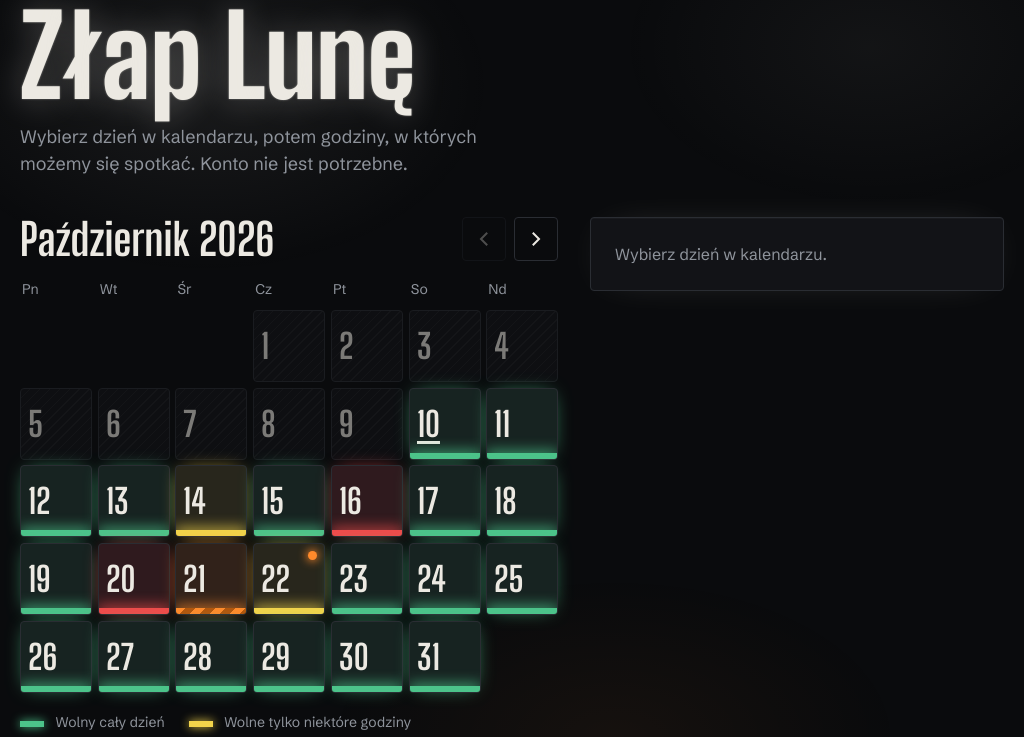
strona publiczna › cały dzień przez checkbox
Click the button "17": (444, 501) [409,465,480,537]
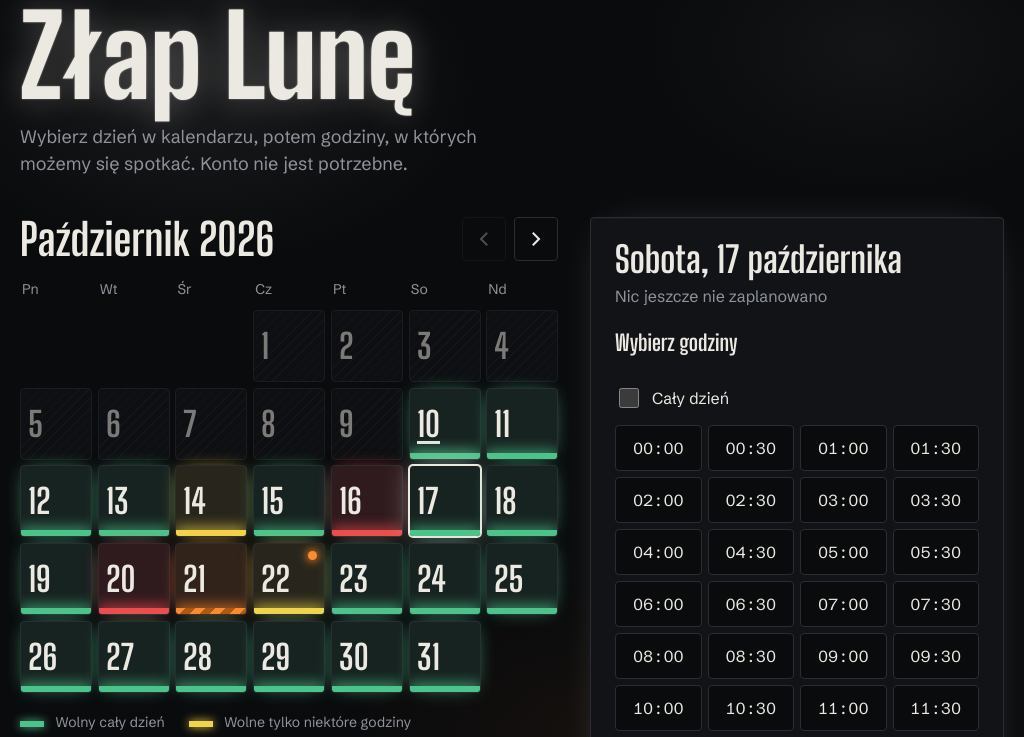
Click the checkbox labelled "Cały dzień": (629, 398) [619,388,639,408]
(page scrolled)
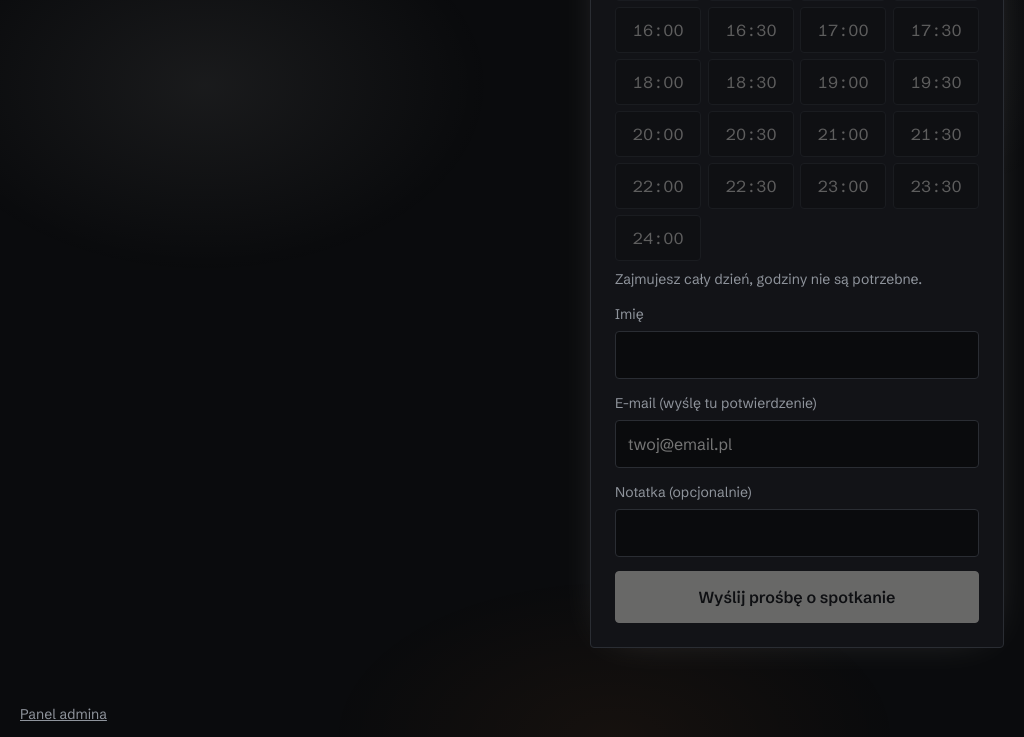
In the field labelled "Imię": (797, 355) [615,331,979,379], type "Bartek"
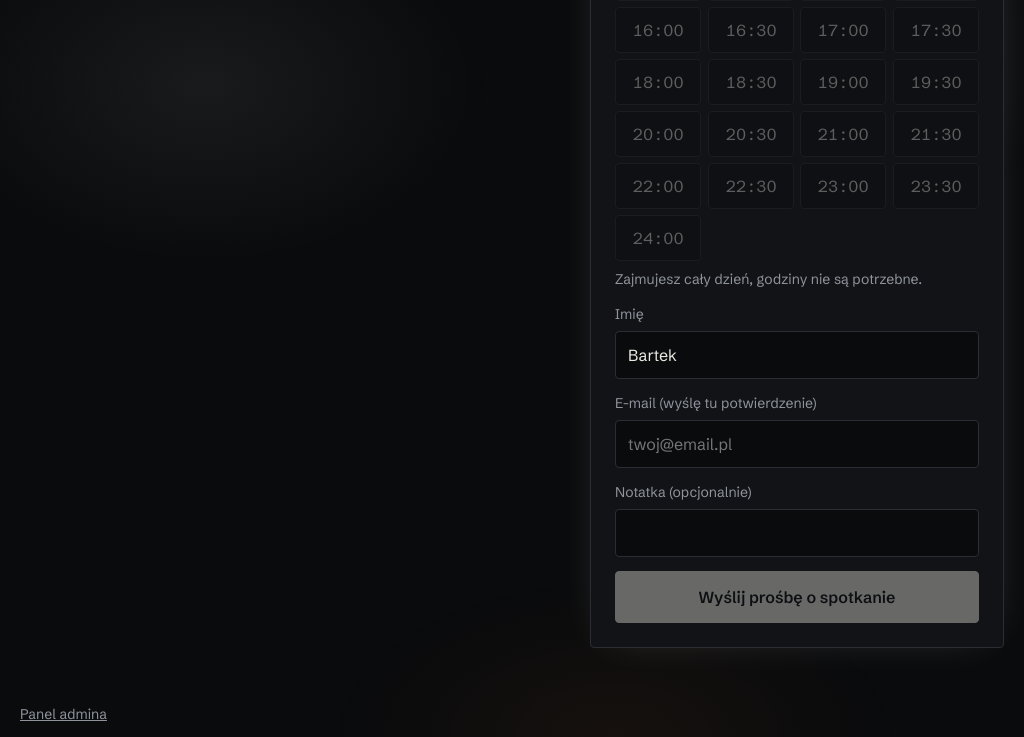
In the field labelled "E-mail (wyślę tu potwierdzenie)": (797, 444) [615,420,979,468], type "b@x.pl"
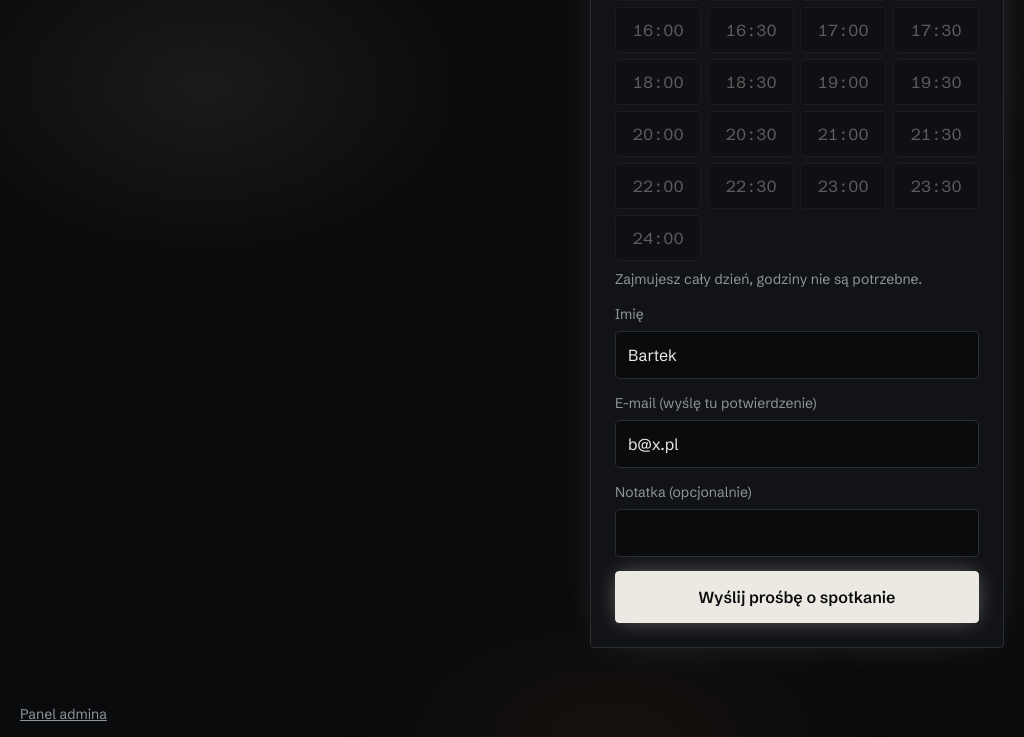
Click the button "Wyślij prośbę o spotkanie": (797, 597) [615,571,979,623]
(page scrolled)
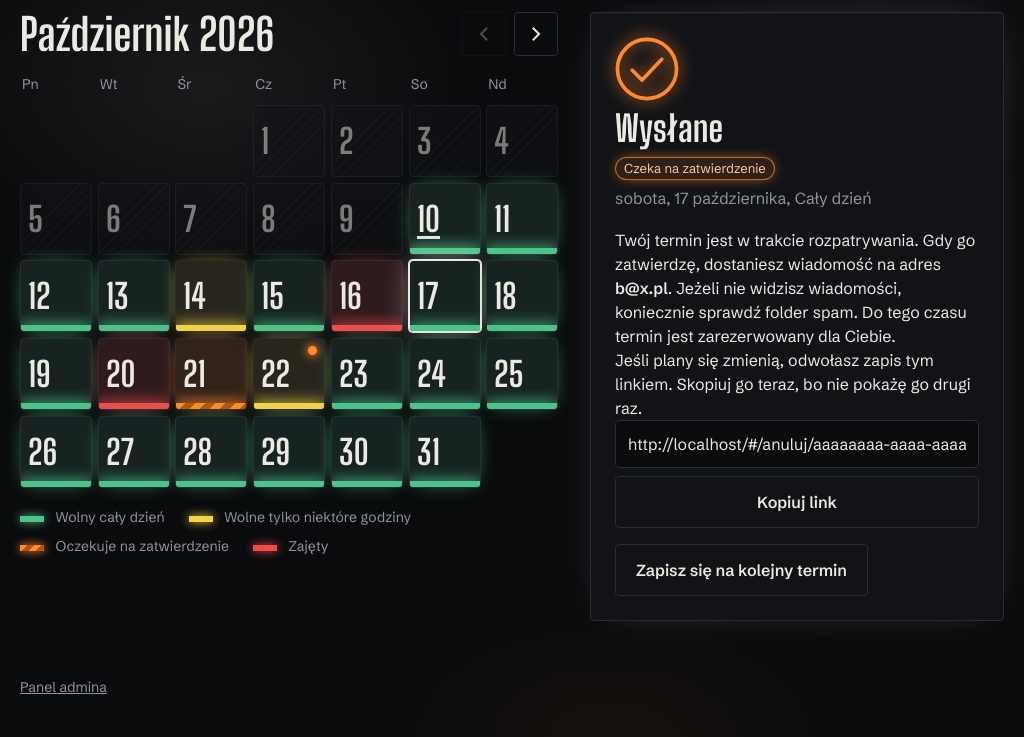
Expected: the heading "Wysłane" is shown, [615,107,723,150]
